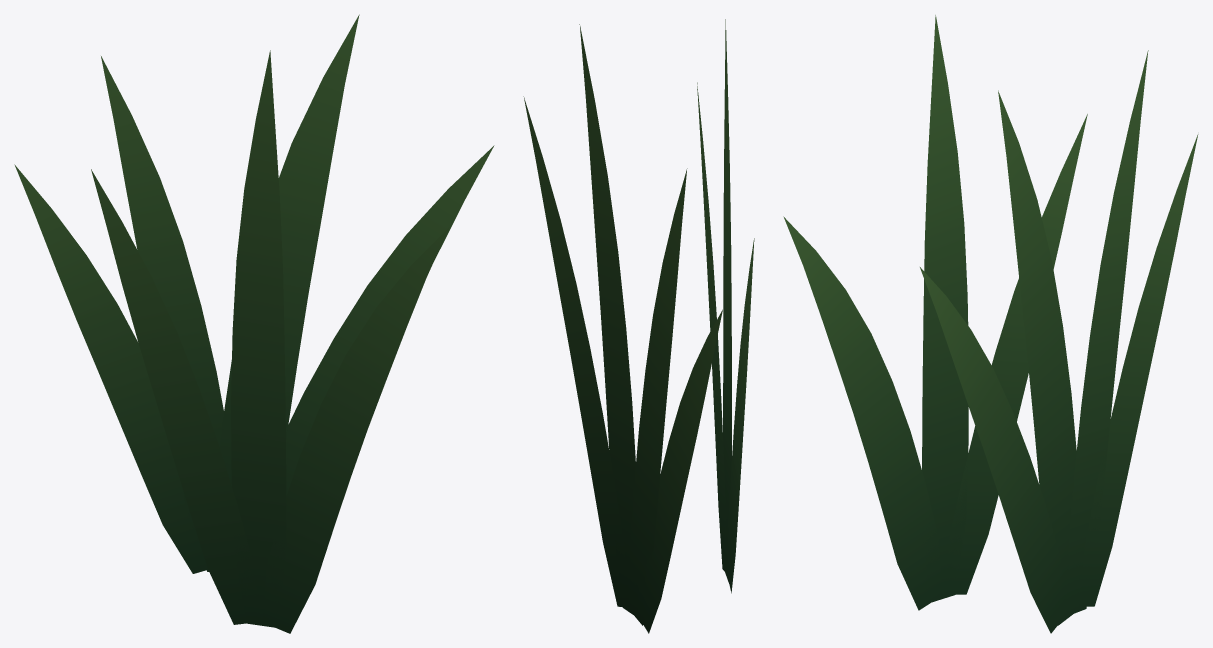
Rendered from treeKitsuneIrisSmall.fbx.
3 renders of one model, left to right at view 1: azimuth 30°, elevation 25°; view 2: azimuth 150°, elevation 25°; view 3: azimuth 270°, elevation 25°, orthographic. The views are drawn at different scales.
Visible parts, largest first — view 1: treeKitsuneIrisSmall; view 2: treeKitsuneIrisSmall; view 3: treeKitsuneIrisSmall.
Boxes of the visible parts, x1=… form: treeKitsuneIrisSmall: x1=14, y1=14, x2=494, y2=633; treeKitsuneIrisSmall: x1=523, y1=19, x2=754, y2=633; treeKitsuneIrisSmall: x1=783, y1=15, x2=1198, y2=633.
Bounding box in the file's own units: 0.1521 × 0.2469 × 0.1567.
Materials: 1 (1 with a texture image).
